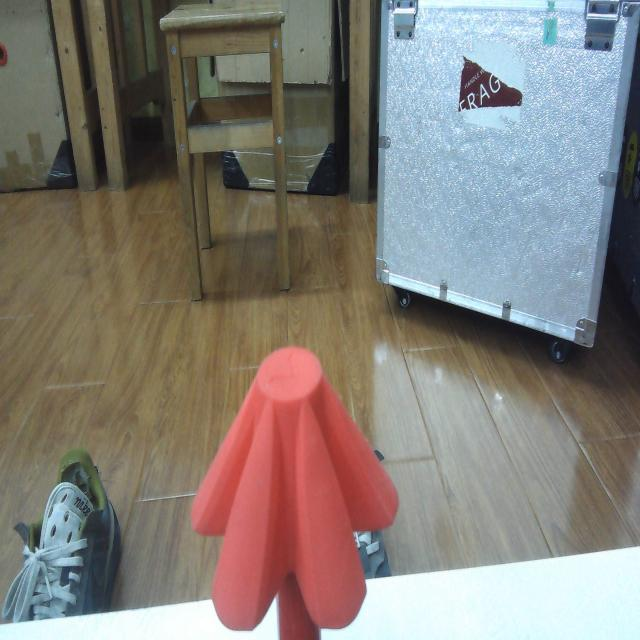zred-Stake-Head: (191, 346, 400, 630)
